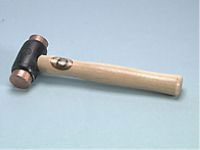hammer: (9, 34, 184, 99)
